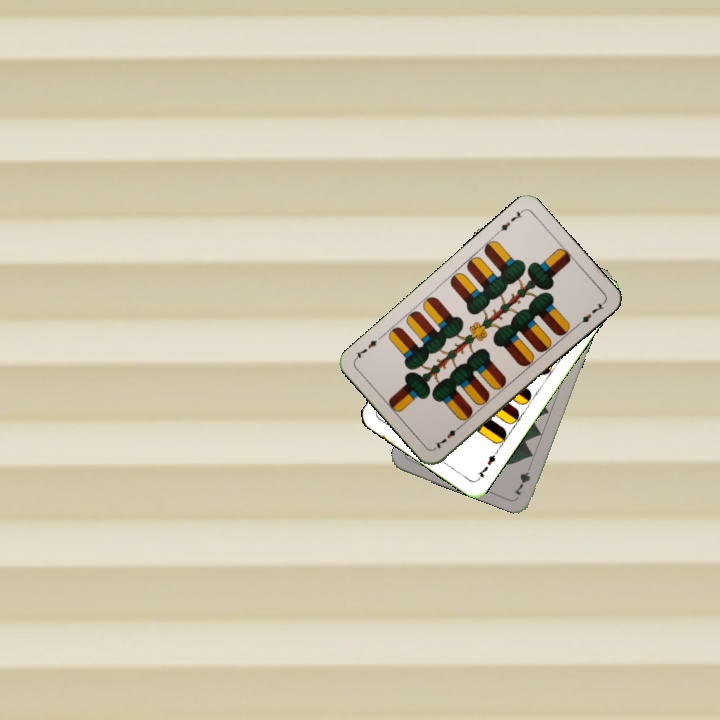E7: (493, 206, 526, 237), (431, 421, 464, 451), (473, 447, 500, 483)
G7: (509, 459, 534, 498)
